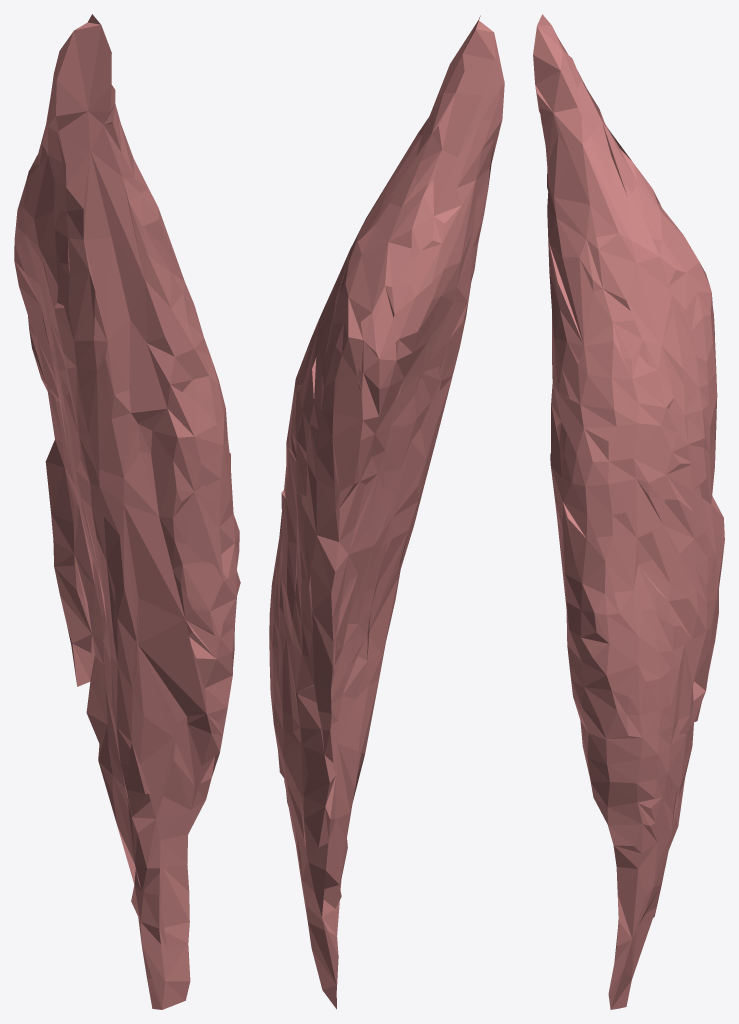
File: Lateral_head_of_triceps_brachii_muscle.l.glb
The picture shows the model from 3 angles, left to right: view 1: azimuth 30°, elevation 25°; view 2: azimuth 150°, elevation 25°; view 3: azimuth 270°, elevation 25°; orthographic projection. The views are drawn at different scales.
Parts seen in each view (by area): view 1: Lateral_head_of_triceps_brachii_muscle.l; view 2: Lateral_head_of_triceps_brachii_muscle.l; view 3: Lateral_head_of_triceps_brachii_muscle.l.
Part boxes in pixels (bbox=[...]): Lateral_head_of_triceps_brachii_muscle.l: bbox=[14, 14, 240, 1009]; Lateral_head_of_triceps_brachii_muscle.l: bbox=[269, 15, 504, 1009]; Lateral_head_of_triceps_brachii_muscle.l: bbox=[533, 14, 724, 1009].
Bounding box in the file's own units: 0.055 × 0.2625 × 0.0483.
